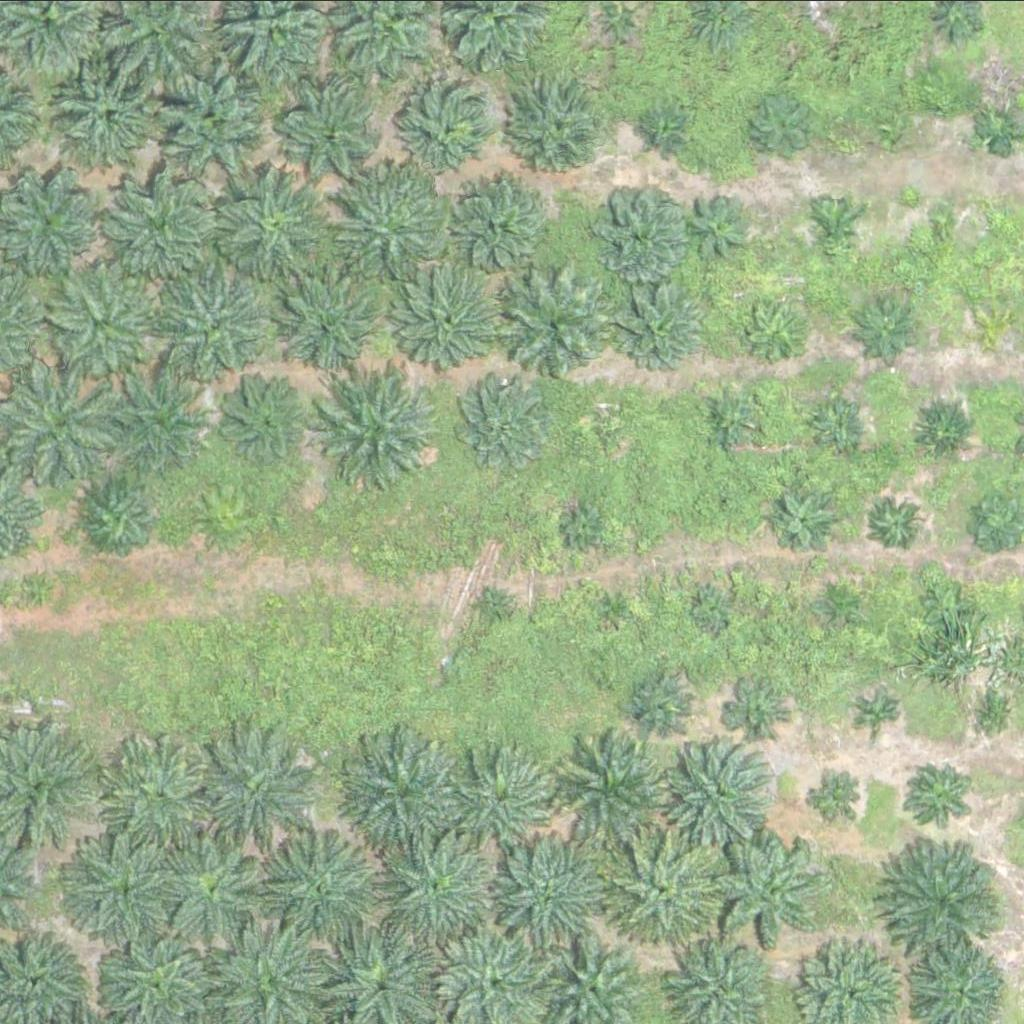Kelapa_Sawit: (60, 825, 186, 950), (98, 731, 224, 856), (495, 832, 621, 957), (381, 824, 507, 949), (260, 829, 386, 954), (198, 727, 324, 852), (343, 731, 469, 856), (563, 720, 689, 845), (314, 371, 440, 496), (329, 159, 454, 284), (883, 830, 1008, 955), (57, 55, 170, 168), (497, 272, 610, 385), (102, 168, 215, 281), (215, 168, 328, 281), (153, 70, 266, 183), (710, 830, 823, 943), (53, 264, 166, 376), (104, 363, 217, 475), (160, 268, 273, 380), (393, 266, 506, 378), (670, 734, 783, 846), (605, 830, 718, 942), (458, 745, 559, 845), (453, 375, 554, 475), (281, 272, 382, 372), (453, 174, 554, 274), (281, 84, 382, 184), (398, 82, 499, 182), (511, 84, 612, 184), (588, 179, 689, 279), (168, 838, 268, 938), (218, 376, 306, 463), (621, 279, 709, 366), (83, 479, 159, 554), (899, 756, 974, 831), (744, 90, 819, 165), (726, 681, 789, 744), (628, 671, 691, 734), (856, 297, 919, 360), (911, 398, 974, 461), (701, 388, 764, 451), (770, 492, 833, 554), (683, 196, 746, 258), (746, 298, 809, 360), (816, 767, 867, 817), (806, 202, 857, 252), (925, 579, 976, 629), (872, 497, 922, 547), (813, 403, 863, 453), (874, 107, 912, 145), (692, 591, 730, 629), (594, 587, 632, 625), (475, 586, 513, 624), (818, 584, 856, 622), (650, 109, 687, 147), (588, 401, 625, 439), (568, 506, 606, 543), (863, 694, 900, 731), (973, 690, 1010, 727), (927, 209, 952, 234), (981, 314, 1006, 339), (718, 487, 743, 512)
